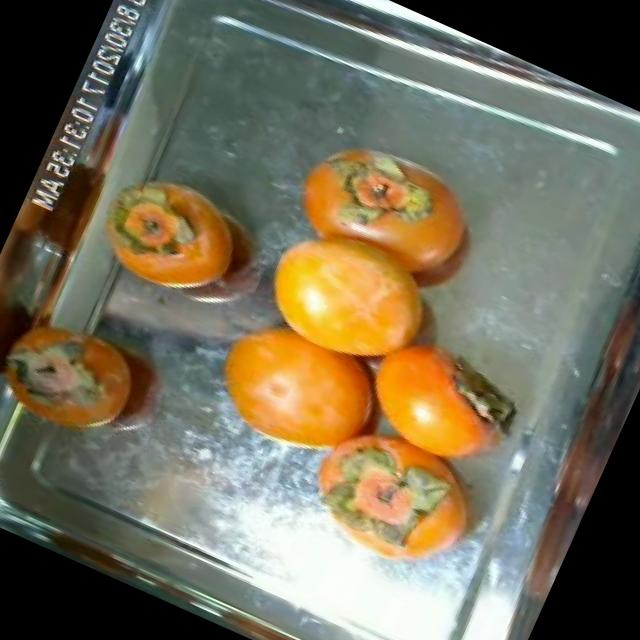Fruit: (176, 286, 410, 488), (76, 146, 284, 330), (278, 420, 451, 581)
